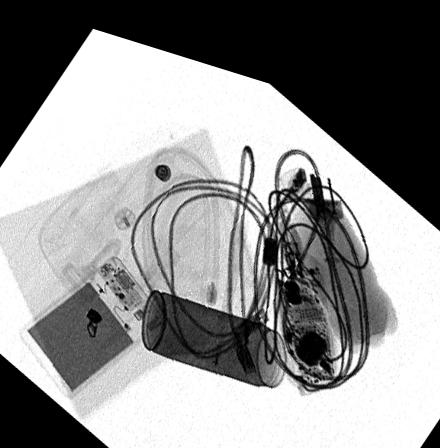Powerbank: (18, 247, 164, 392)
